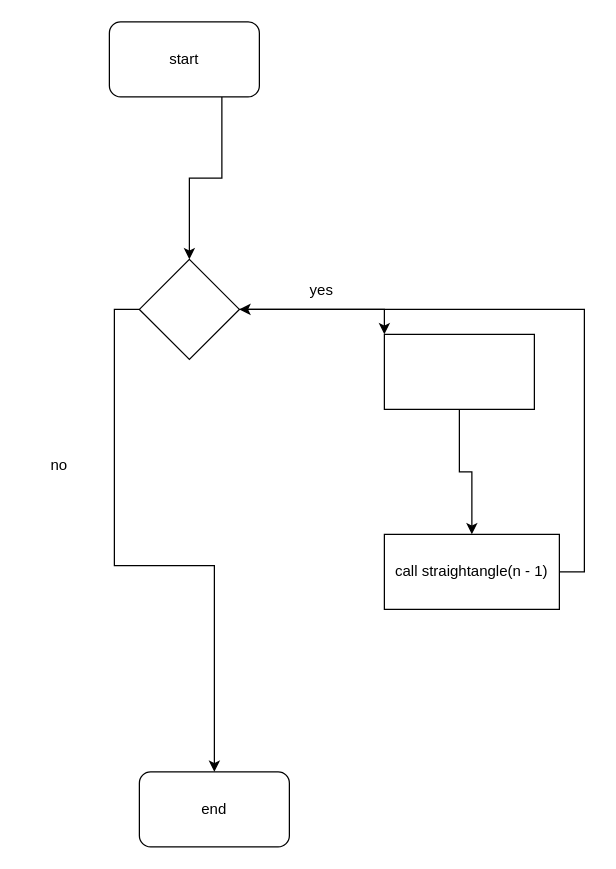
Image size: 616x869. Some labels were removed from this diagram. Here are the shapes that lost their labels. From the top down, the centre of each, then its label:
(x=188, y=308): n>0?
(x=458, y=371): print "*"*n
